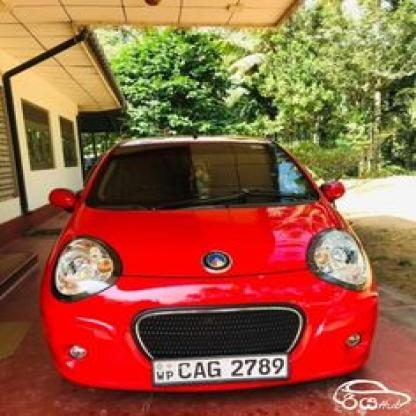car front: (41, 128, 378, 388)
number plate: (150, 353, 291, 384)
